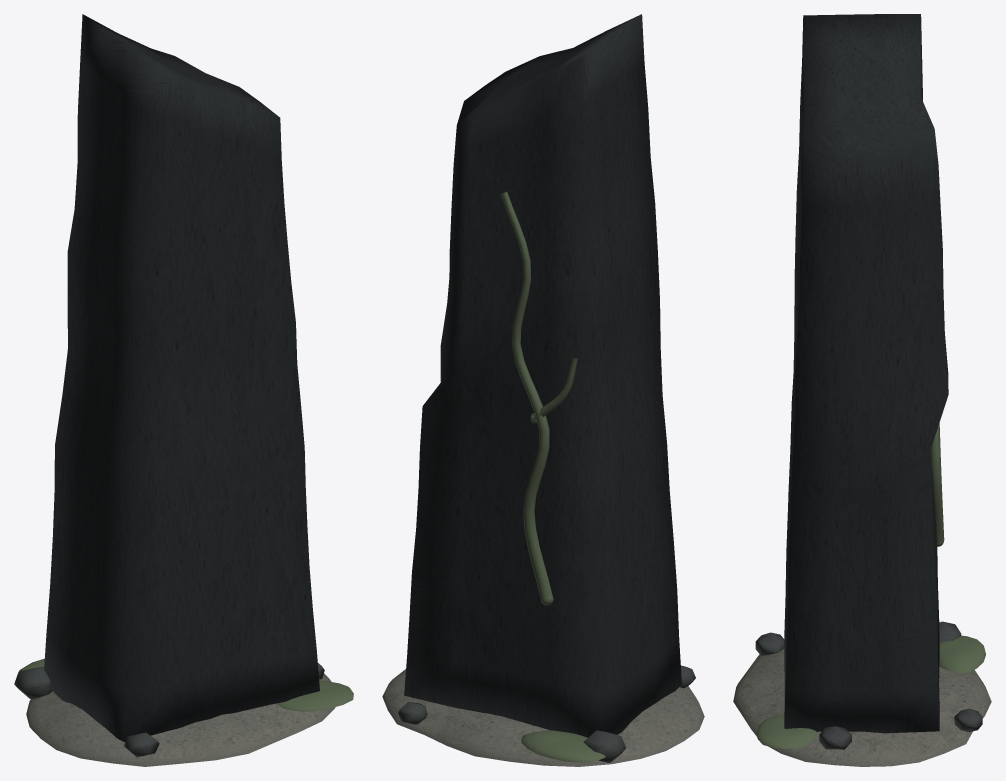
Rendered from obsidian_monolith.glb.
3 views of the same model, side by side, from view 1: azimuth 30°, elevation 25°; view 2: azimuth 150°, elevation 25°; view 3: azimuth 270°, elevation 25° (orthographic). The views are drawn at different scales.
Visible parts, largest first — view 1: obsidian_monolith; view 2: obsidian_monolith; view 3: obsidian_monolith.
Part boxes in pixels (x1=…): obsidian_monolith: x1=14, y1=14, x2=353, y2=766; obsidian_monolith: x1=382, y1=14, x2=704, y2=766; obsidian_monolith: x1=733, y1=14, x2=991, y2=766.
Bounding box in the file's own units: 1.2 × 2.8 × 1.
Materials: 1 (1 with a texture image).
